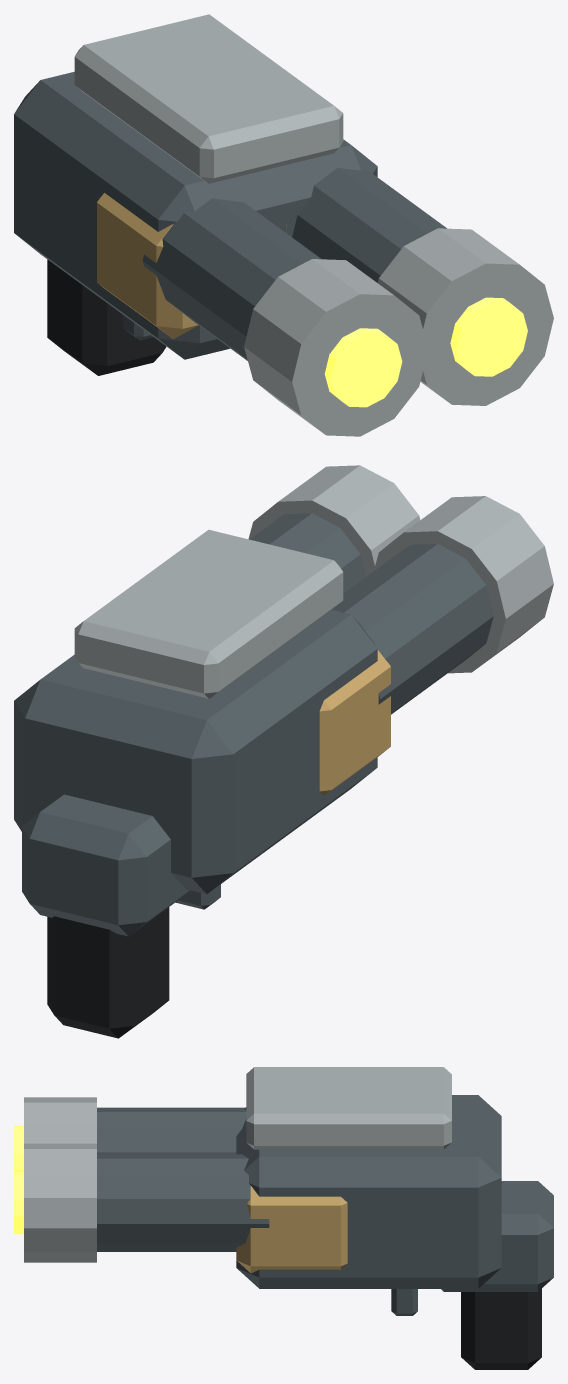
The model's file is scatter-blaster.glb.
3 renders of one model, top to bottom at view 1: azimuth 30°, elevation 25°; view 2: azimuth 150°, elevation 25°; view 3: azimuth 270°, elevation 25°, orthographic. The views are drawn at different scales.
Parts seen in each view (by area): view 1: Weapon_Body | Campaign compact armory.001, Weapon_Body | Population luminous amber; view 2: Weapon_Body | Campaign compact armory.001; view 3: Weapon_Body | Campaign compact armory.001, Weapon_Body | Population luminous amber.
Part boxes in pixels (x1,y1,x2,y2): Weapon_Body | Campaign compact armory.001: (14,14,553,436); Weapon_Body | Population luminous amber: (324,297,527,407); Weapon_Body | Campaign compact armory.001: (14,465,553,1038); Weapon_Body | Campaign compact armory.001: (24,1067,553,1369); Weapon_Body | Population luminous amber: (14,1125,23,1234).
Size of the model in its own units: 0.346 by 0.448 by 0.814.
